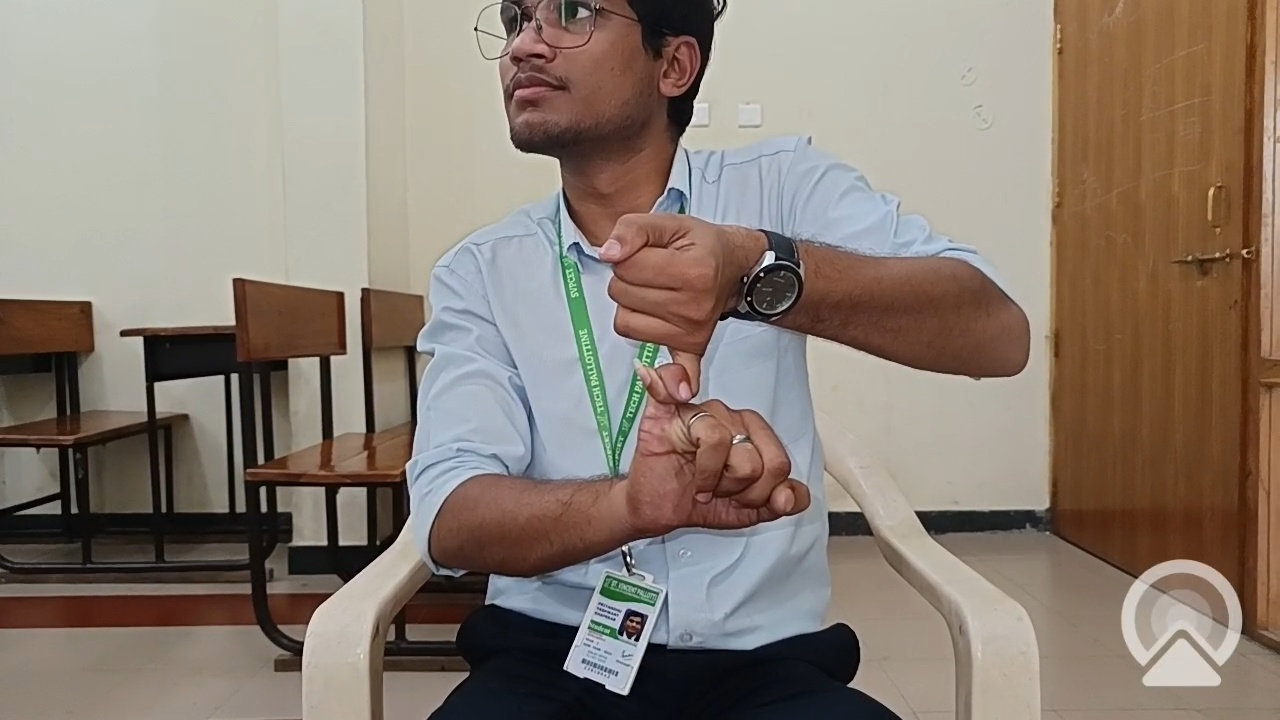S: (552, 169, 878, 595)
